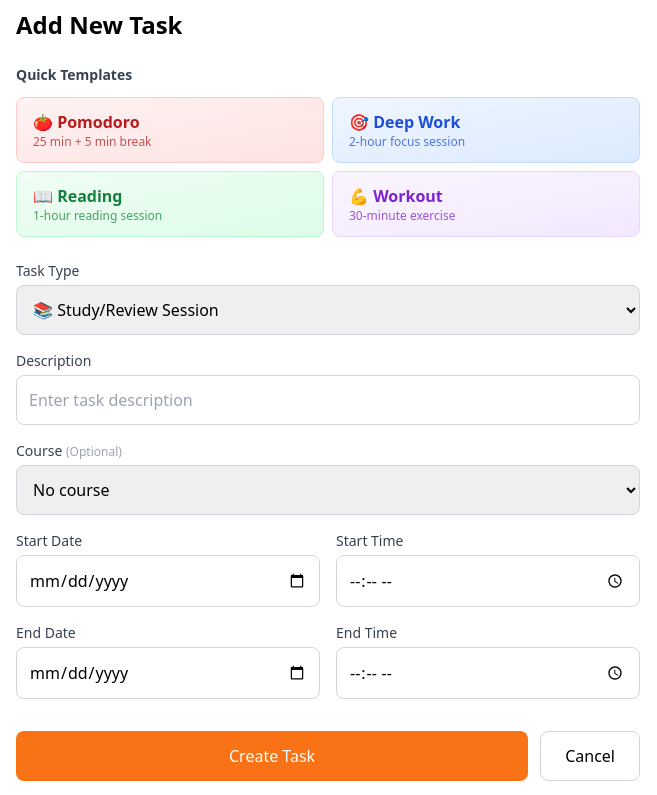
AddTaskComponent › Assignment Selection › shows message when no assignments found
Select "CSC491 - Capstone Project" in the dropdown below "Course" at (328,490), box 16,465 -> 640,515
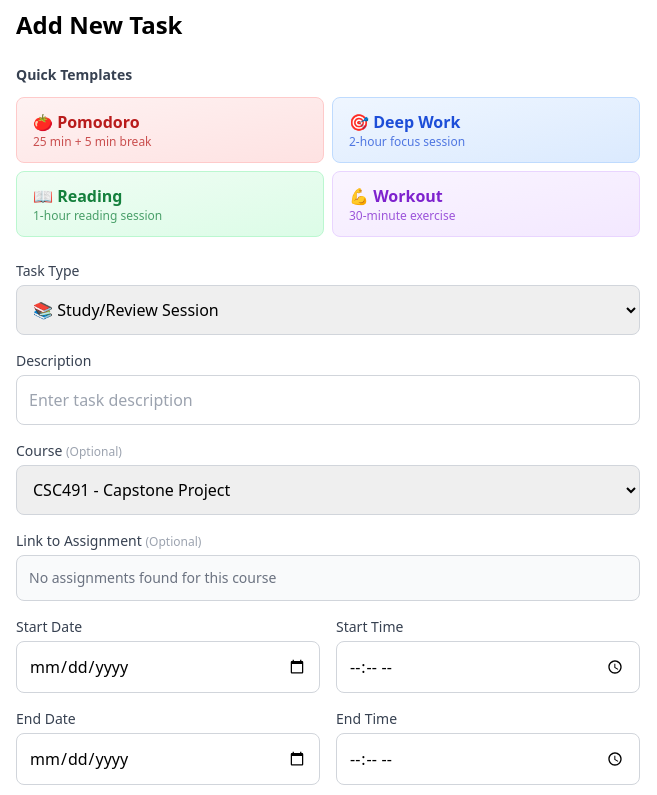
Expected: the text "No assignments found for this course" is shown, 16,555 -> 640,601
